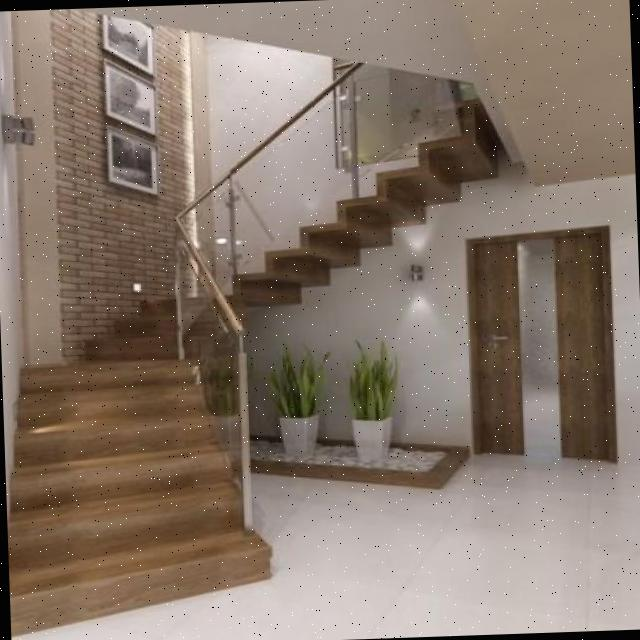stairs: (0, 92, 518, 640)
